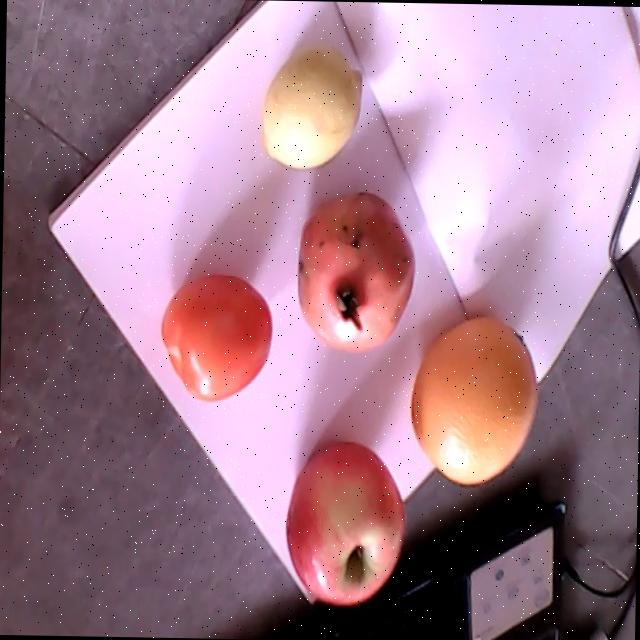apple: (285, 443, 403, 603)
lemon: (262, 50, 361, 169)
orange: (410, 316, 535, 484)
pomegranate: (297, 193, 413, 351)
tomato: (163, 275, 270, 400)
